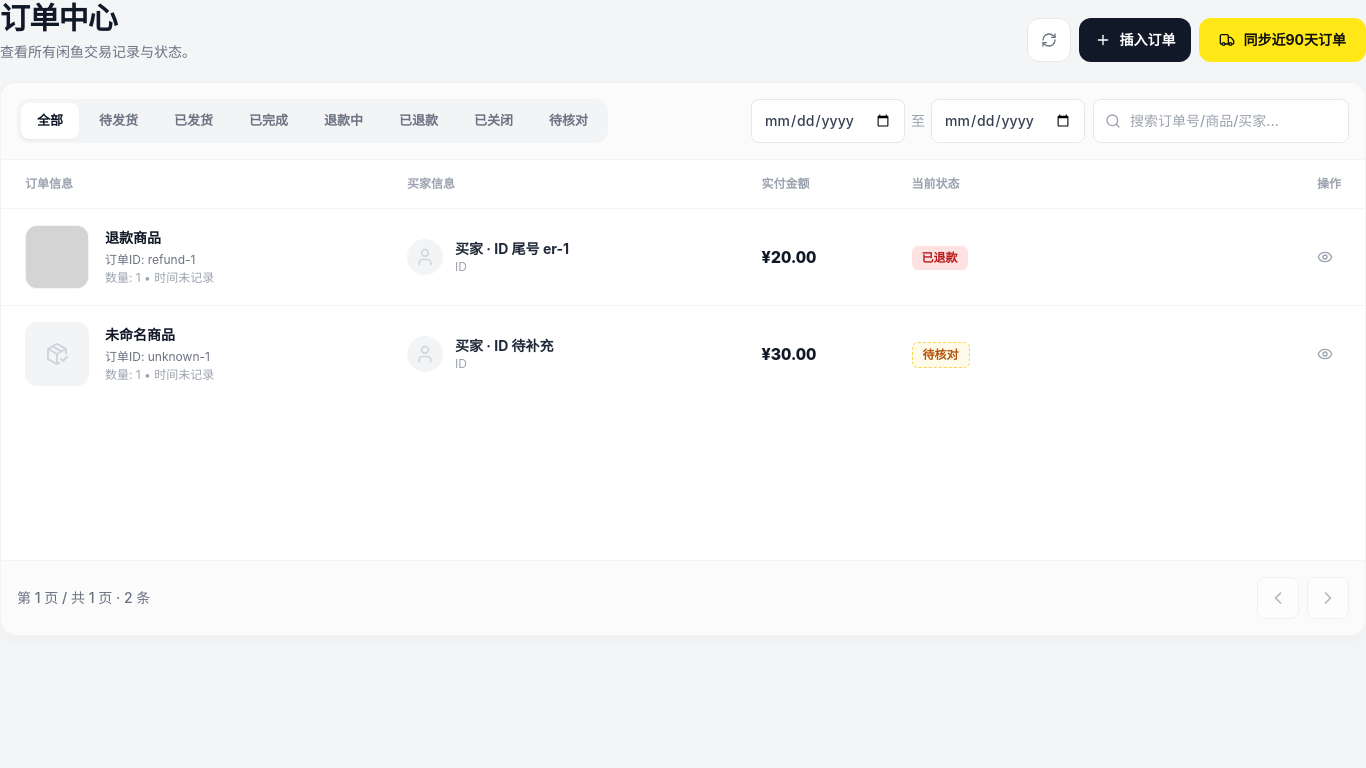
Test: OrderList status sync › renders partial sync, unconfirmed status and field coverage
Click the button "同步近90天订单" at x=1283, y=40, box top-left (1200, 18), bottom-right (1365, 62)
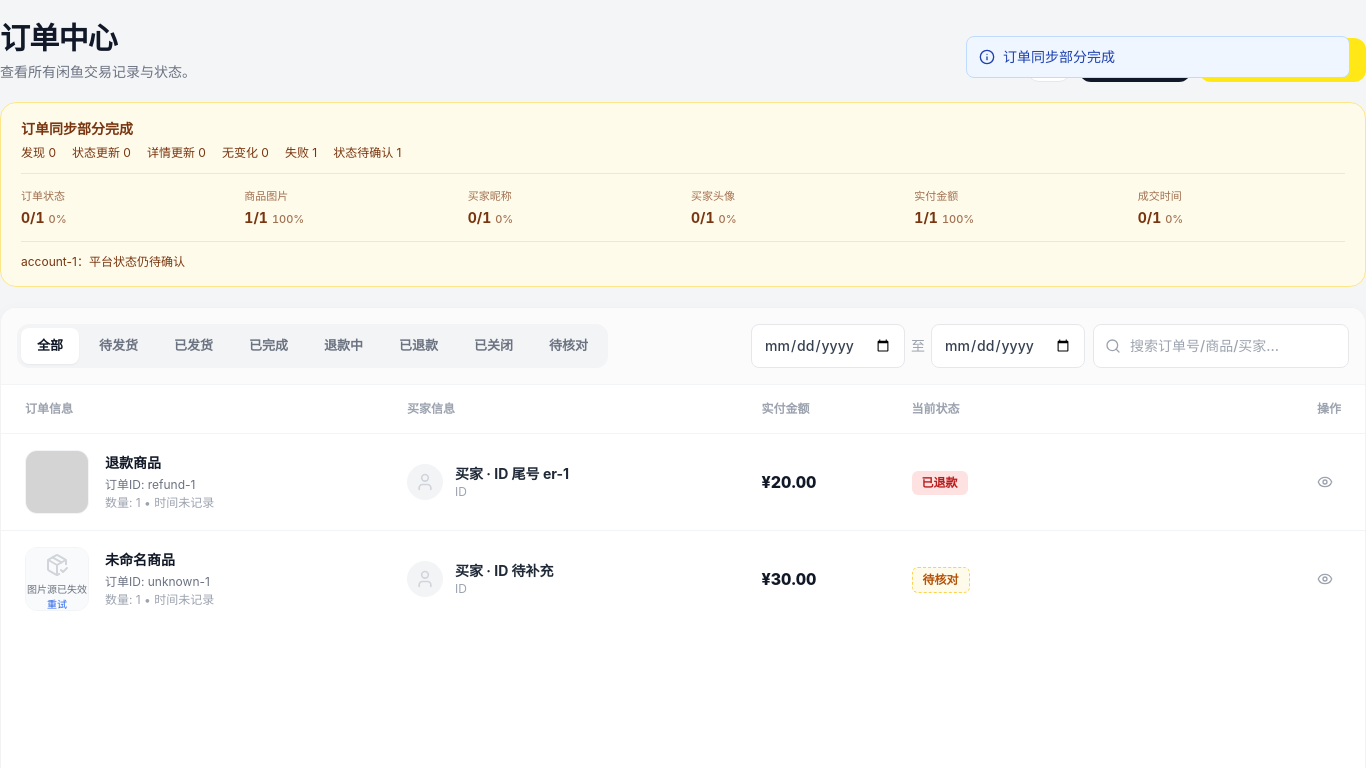
Now the text "状态待确认 1" is shown, box top-left (333, 145), bottom-right (402, 161)
Now the text "商品图片" is shown, box top-left (244, 189), bottom-right (288, 203)
Now the text "买家昵称" is shown, box top-left (468, 189), bottom-right (512, 203)
